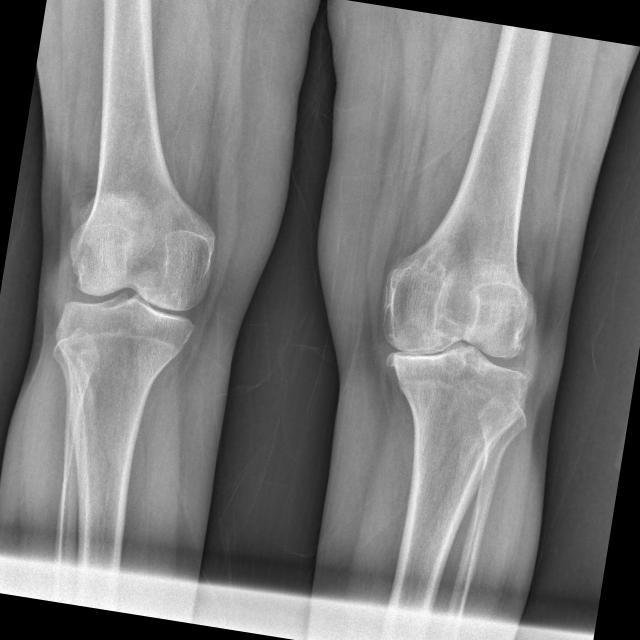Knee: (50, 218, 216, 374), (365, 287, 540, 417)
